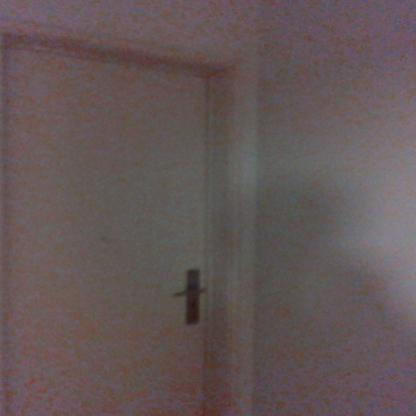door: (4, 46, 214, 416)
lever: (176, 285, 210, 300)
